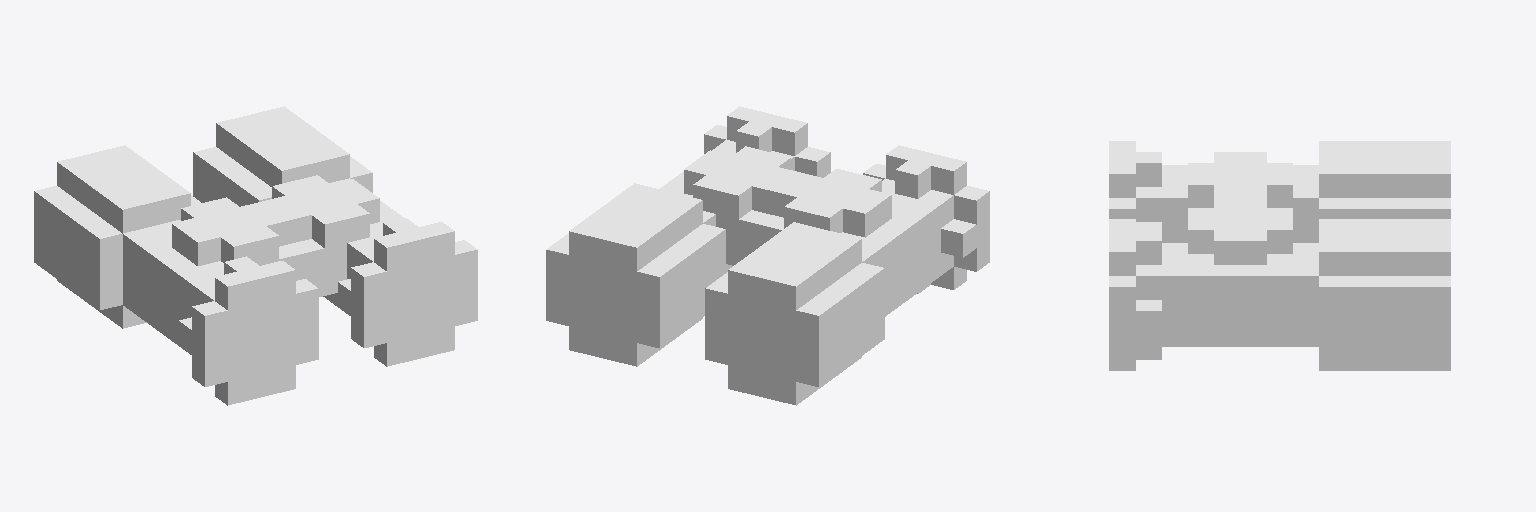
Rendered from longuevue.obj.
3 views of the same model, side by side, from view 1: azimuth 30°, elevation 25°; view 2: azimuth 150°, elevation 25°; view 3: azimuth 270°, elevation 25° (orthographic).
Size of the model in its own units: 12 by 5 by 13.